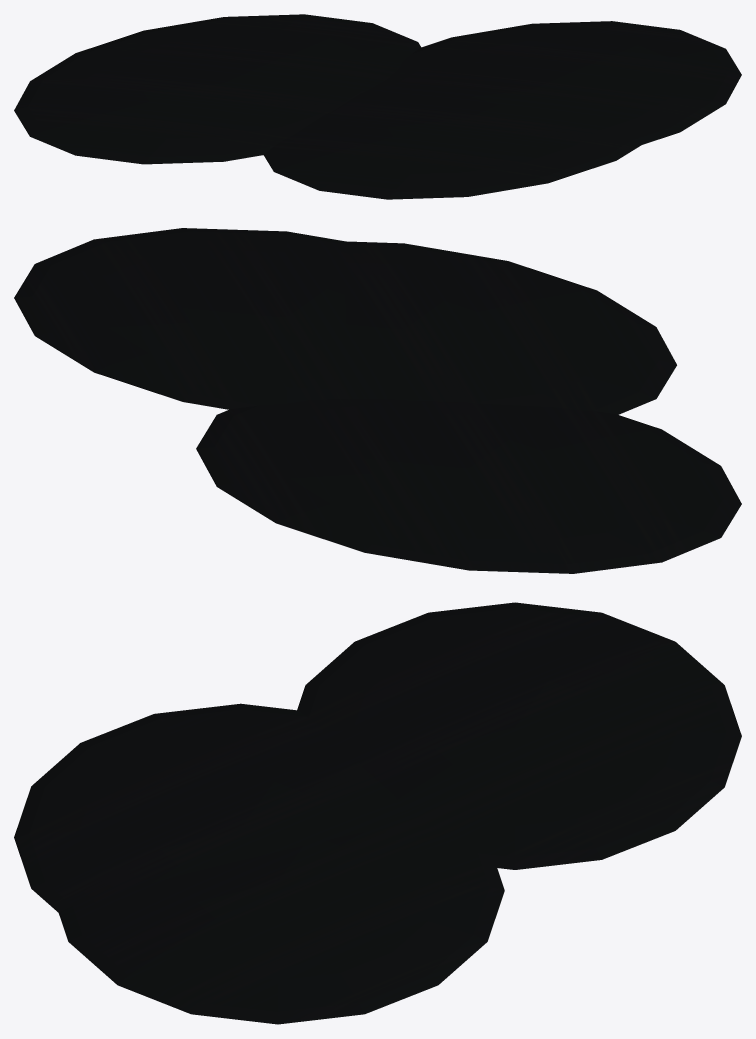
File: PROP-F082445C329F_lod0.glb
3 views of the same model, one above another, from view 1: azimuth 30°, elevation 25°; view 2: azimuth 150°, elevation 25°; view 3: azimuth 270°, elevation 25° (orthographic). The views are drawn at different scales.
Visible parts, largest first — view 1: surface_hazard.001; view 2: surface_hazard.001; view 3: surface_hazard.001.
Boxes of the visible parts, box(x1,y1,x2,y2) form: surface_hazard.001: box(14, 14, 741, 199); surface_hazard.001: box(14, 228, 741, 573); surface_hazard.001: box(14, 602, 741, 1024).
Bounding box in the file's own units: 1.88 × 0.036 × 1.37.
1 material, 1 textured.
